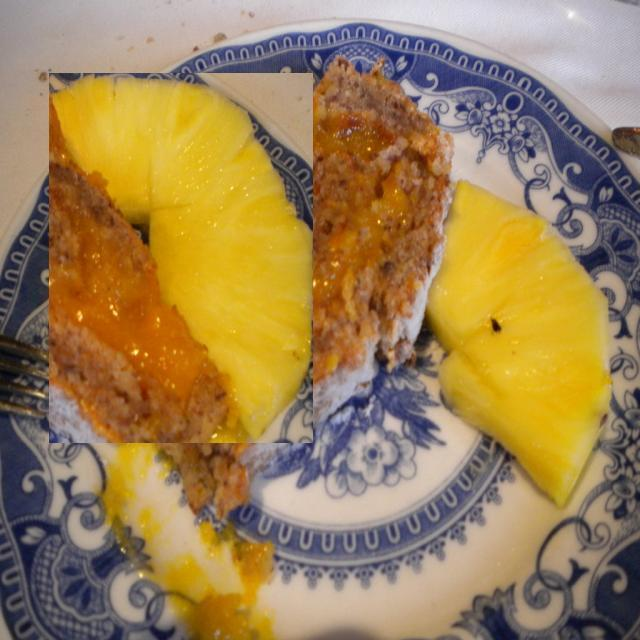Pineapple: (49, 74, 314, 444), (427, 179, 612, 510)
